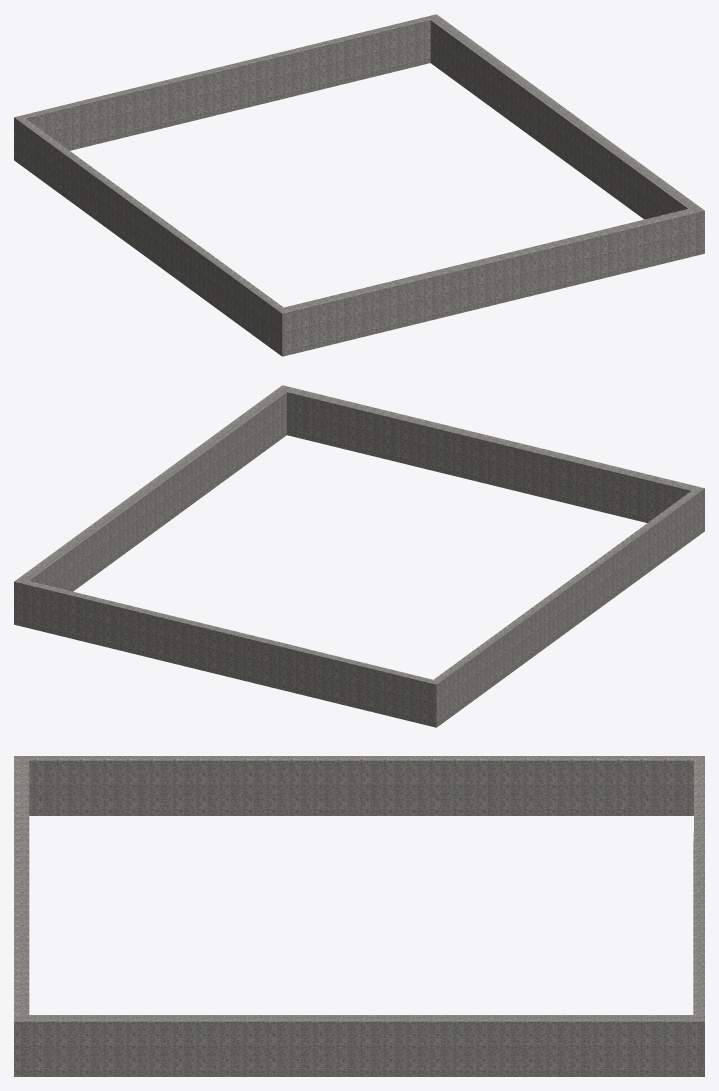
The model's file is Wall.fbx.
3 renders of one model, top to bottom at view 1: azimuth 30°, elevation 25°; view 2: azimuth 150°, elevation 25°; view 3: azimuth 270°, elevation 25°, orthographic. The views are drawn at different scales.
Visible parts, largest first — view 1: Wall; view 2: Wall; view 3: Wall.
Part boxes in pixels (x1=…): Wall: x1=14, y1=14, x2=704, y2=356; Wall: x1=14, y1=385, x2=704, y2=727; Wall: x1=14, y1=756, x2=704, y2=1076.
Size of the model in its own units: 418 by 40.69 by 460.
